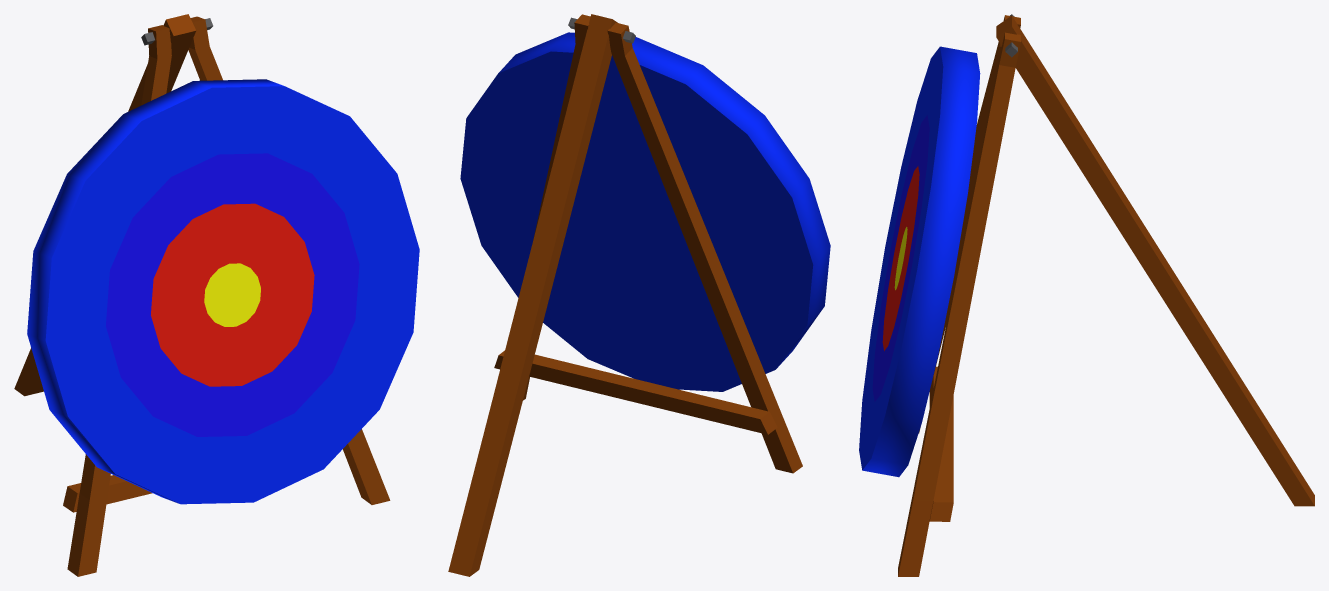
Rendered from mesh_target_blue.fbx.
3 renders of one model, left to right at view 1: azimuth 30°, elevation 25°; view 2: azimuth 150°, elevation 25°; view 3: azimuth 270°, elevation 25°, orthographic. The views are drawn at different scales.
Parts seen in each view (by area): view 1: mesh_target_blue; view 2: mesh_target_blue; view 3: mesh_target_blue.
Part boxes in pixels (bbox=[...]): mesh_target_blue: bbox=[14, 14, 419, 576]; mesh_target_blue: bbox=[448, 14, 830, 576]; mesh_target_blue: bbox=[859, 14, 1314, 576].
Size of the model in its own units: 98.75 by 121 by 104.
